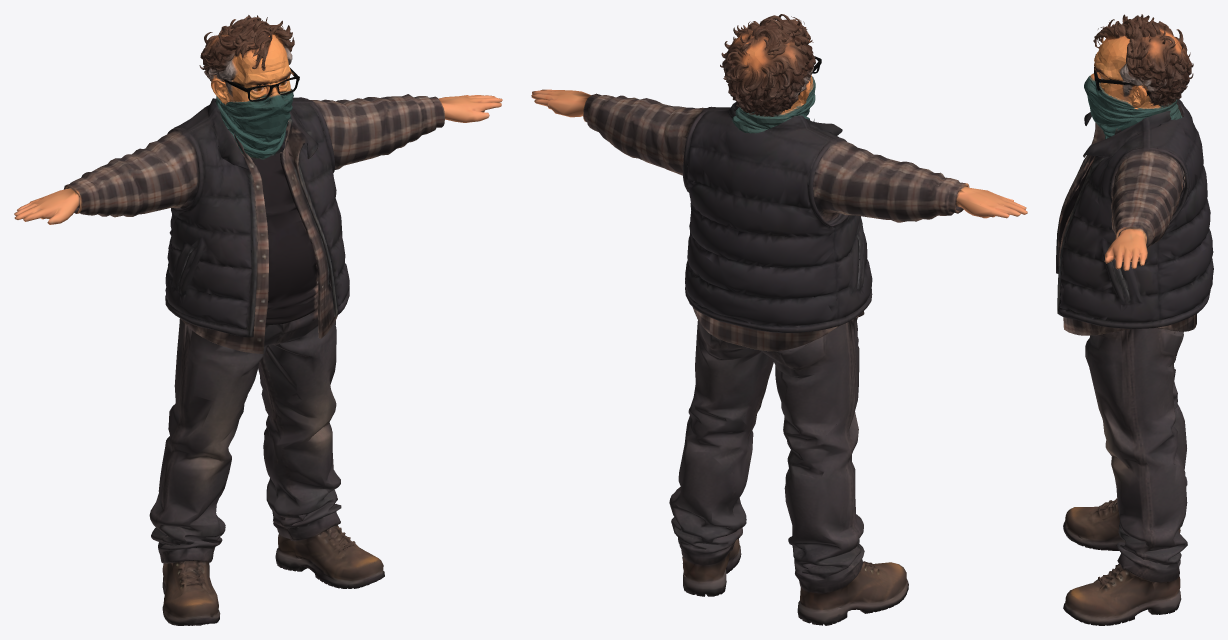
File: prepared.glb
3 views of the same model, side by side, from view 1: azimuth 30°, elevation 25°; view 2: azimuth 150°, elevation 25°; view 3: azimuth 270°, elevation 25° (orthographic). The views are drawn at different scales.
Visible parts, largest first — view 1: operator; view 2: operator; view 3: operator.
Boxes of the visible parts, x1=… form: operator: x1=14, y1=15, x2=502, y2=625; operator: x1=531, y1=14, x2=1027, y2=625; operator: x1=1056, y1=14, x2=1213, y2=625.
Bounding box in the file's own units: 1.6 × 1.78 × 0.454.
Materials: 1 (1 with a texture image).
